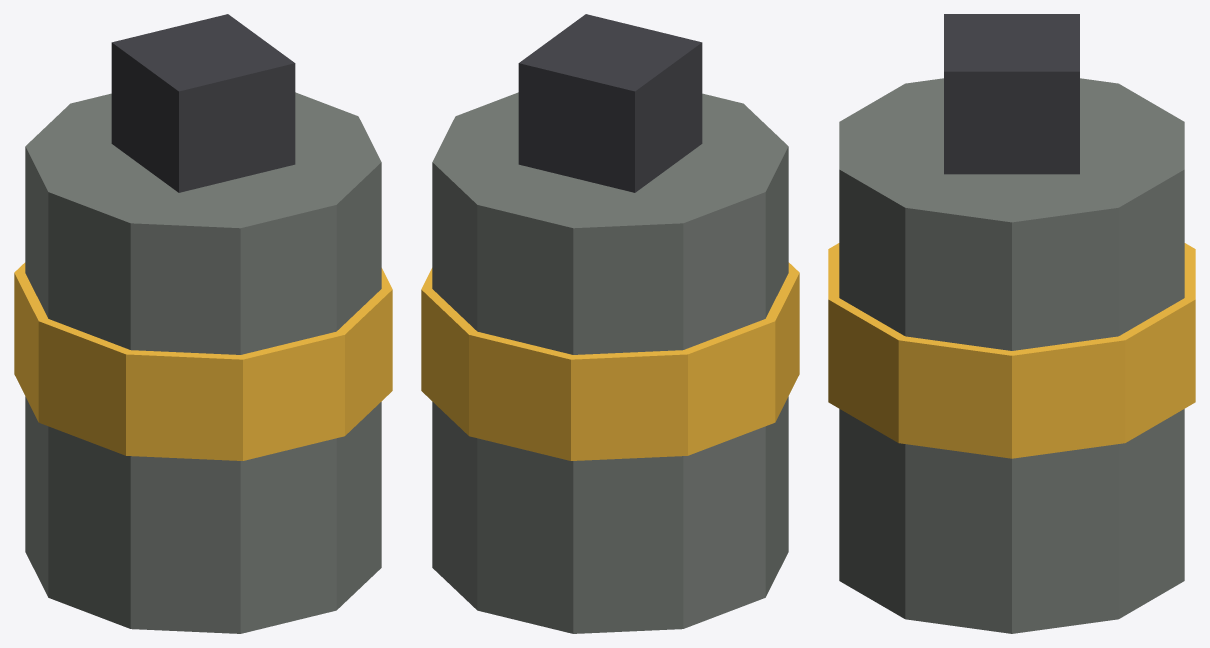
File: item_F1_FragGrenade.glb
The picture shows the model from 3 angles, left to right: view 1: azimuth 30°, elevation 25°; view 2: azimuth 150°, elevation 25°; view 3: azimuth 270°, elevation 25°; orthographic projection.
Parts seen in each view (by area): view 1: Item_F1_FragGrenade; view 2: Item_F1_FragGrenade; view 3: Item_F1_FragGrenade.
Part boxes in pixels (x1,y1,x2,y2): Item_F1_FragGrenade: (14, 14, 392, 633); Item_F1_FragGrenade: (421, 14, 799, 633); Item_F1_FragGrenade: (828, 14, 1195, 633).
Size of the model in its own units: 0.068 by 0.1 by 0.0647.
